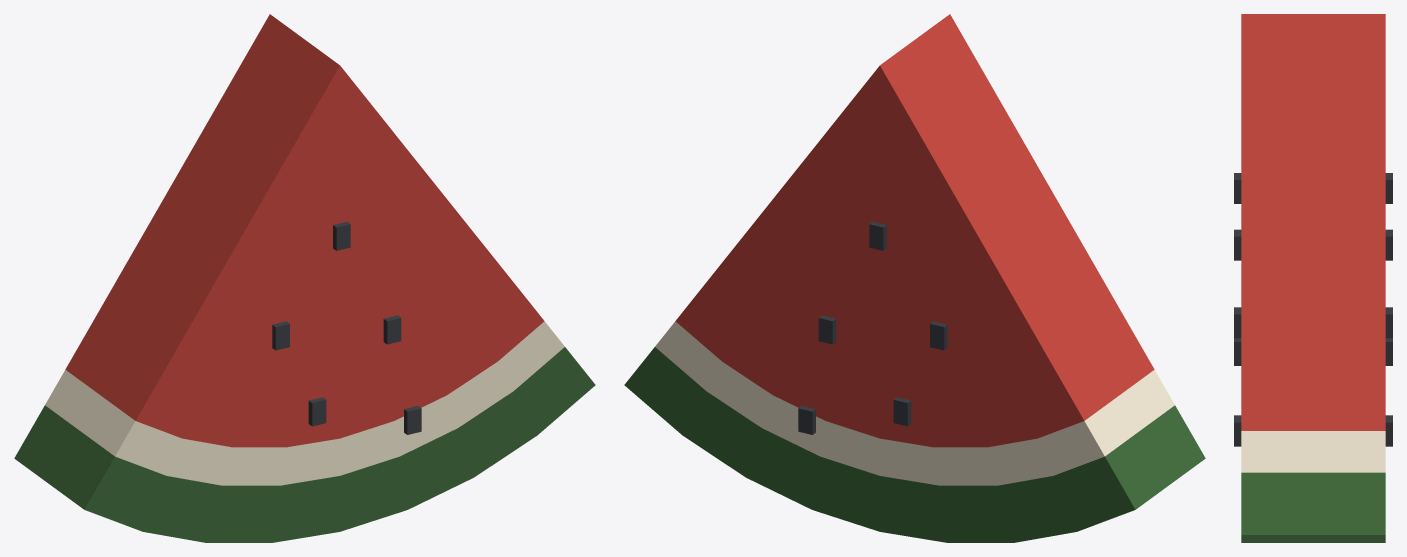
File: watermelon_slice.glb
3 views of the same model, side by side, from view 1: azimuth 30°, elevation 25°; view 2: azimuth 150°, elevation 25°; view 3: azimuth 270°, elevation 25° (orthographic). The views are drawn at different scales.
Parts seen in each view (by area): view 1: watermelon_slice; view 2: watermelon_slice; view 3: watermelon_slice.
Boxes of the visible parts, bbox=[...] form: watermelon_slice: bbox=[14, 14, 595, 542]; watermelon_slice: bbox=[624, 14, 1205, 542]; watermelon_slice: bbox=[1234, 14, 1392, 542].
Size of the model in its own units: 0.2524 by 0.22 by 0.066.
